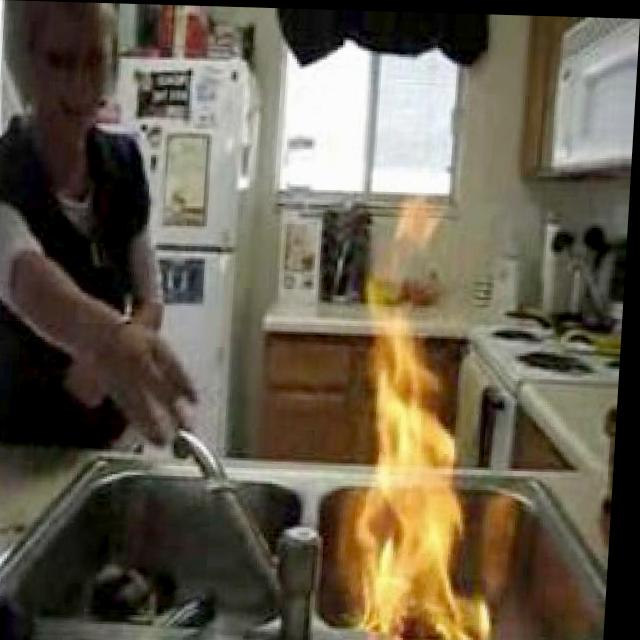helmet: (345, 190, 494, 640)
